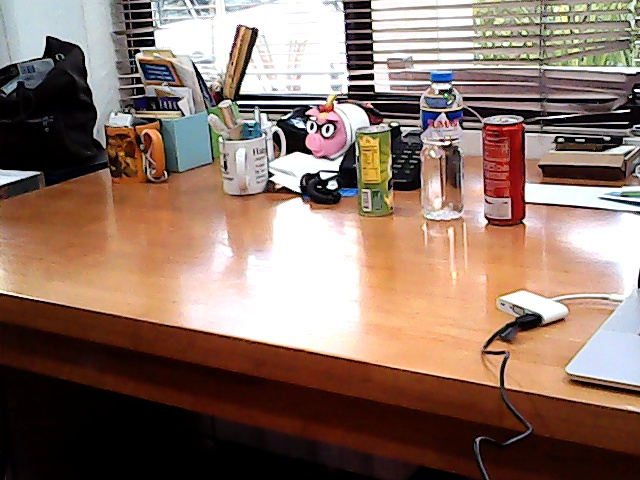Cola: (481, 107, 531, 228)
Pine Juice: (354, 120, 396, 220)
Summit Water: (416, 68, 464, 223)
